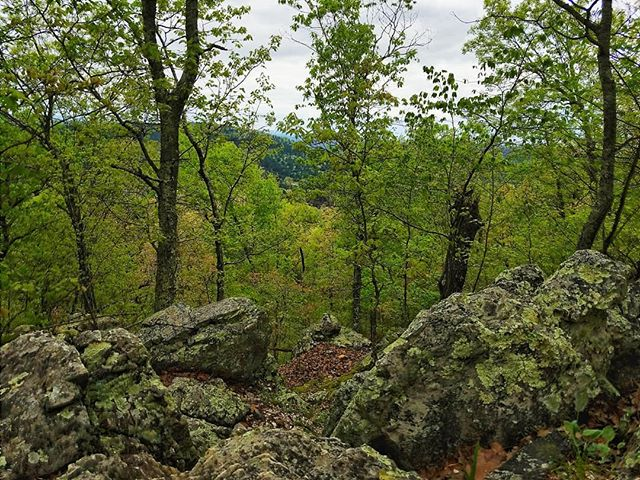rocks: (1, 257, 605, 480)
sky: (86, 1, 640, 114)
tree: (85, 1, 236, 301), (300, 1, 413, 318), (404, 40, 532, 305), (523, 1, 640, 260), (1, 97, 120, 320), (186, 134, 276, 300)
